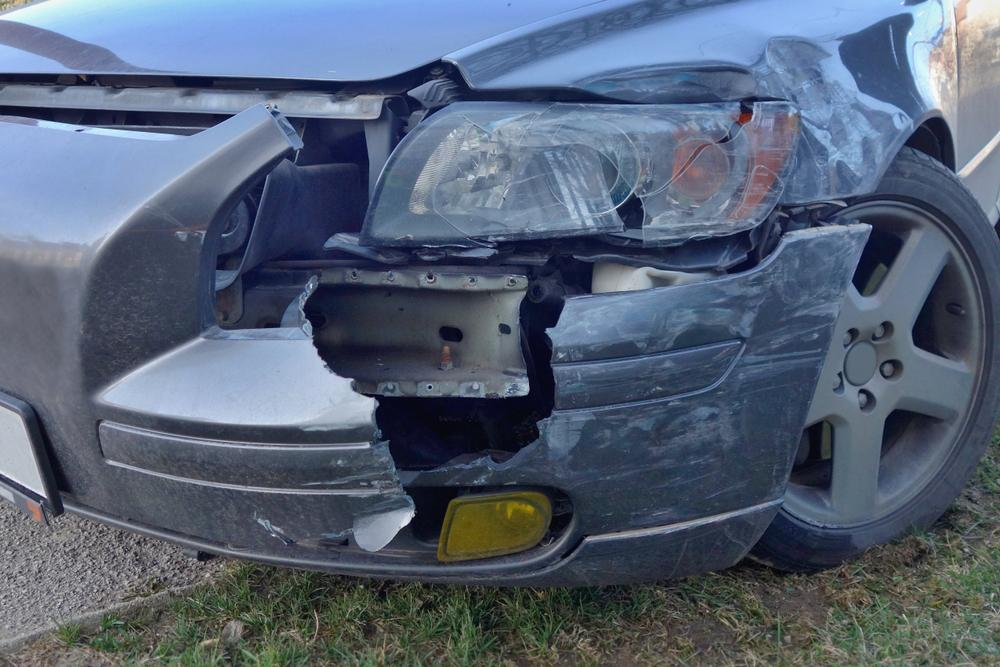crack: (306, 280, 565, 480)
dent: (573, 38, 905, 204)
lamp broken: (358, 97, 802, 249)
scratch: (546, 226, 873, 478)
